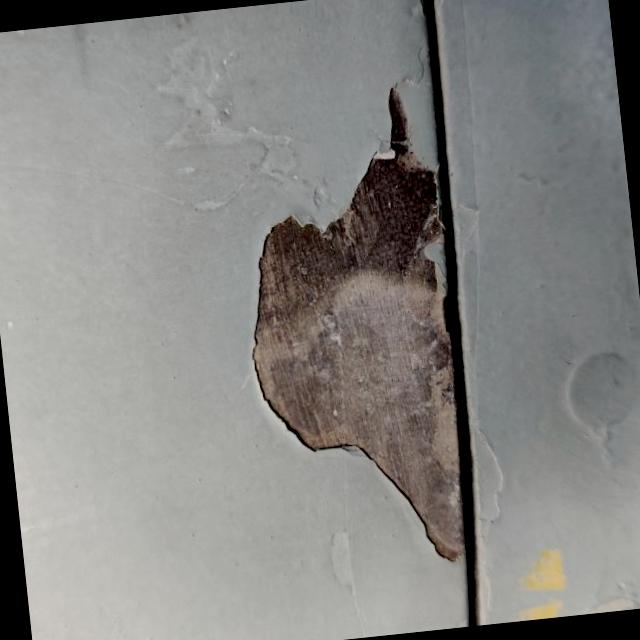paint-off: (194, 39, 596, 610)
